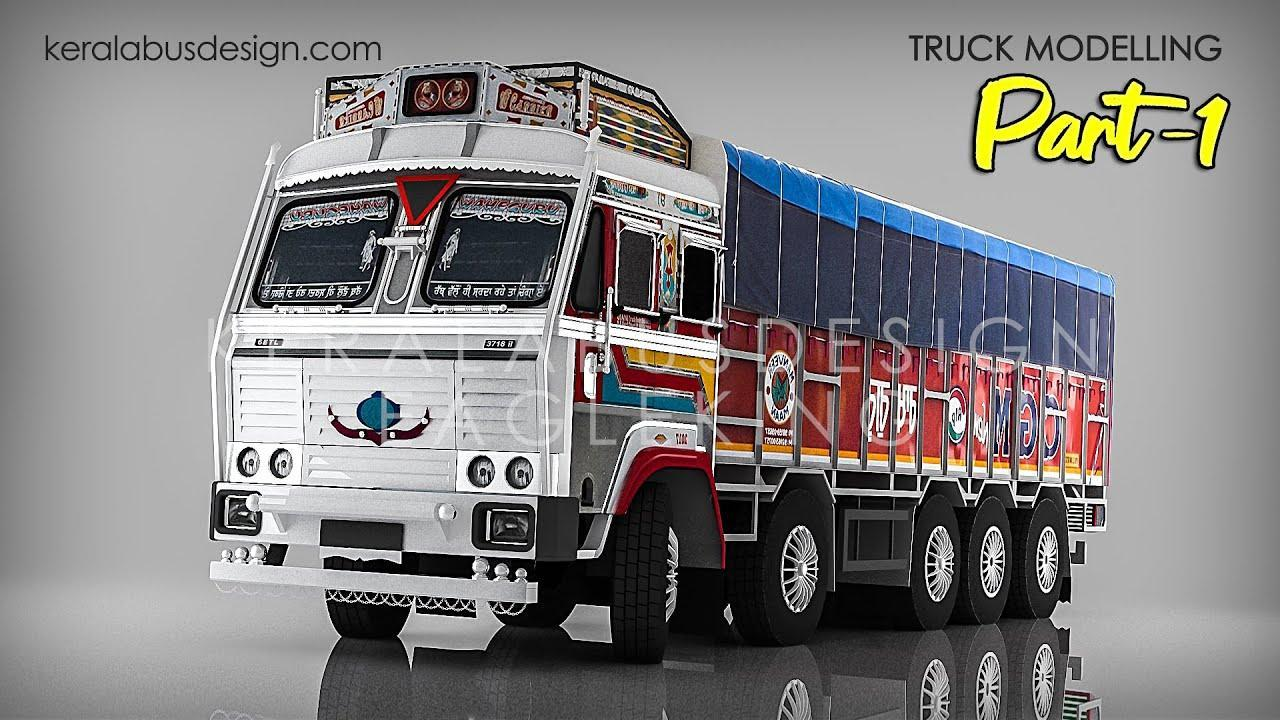truck: (236, 70, 1179, 667)
